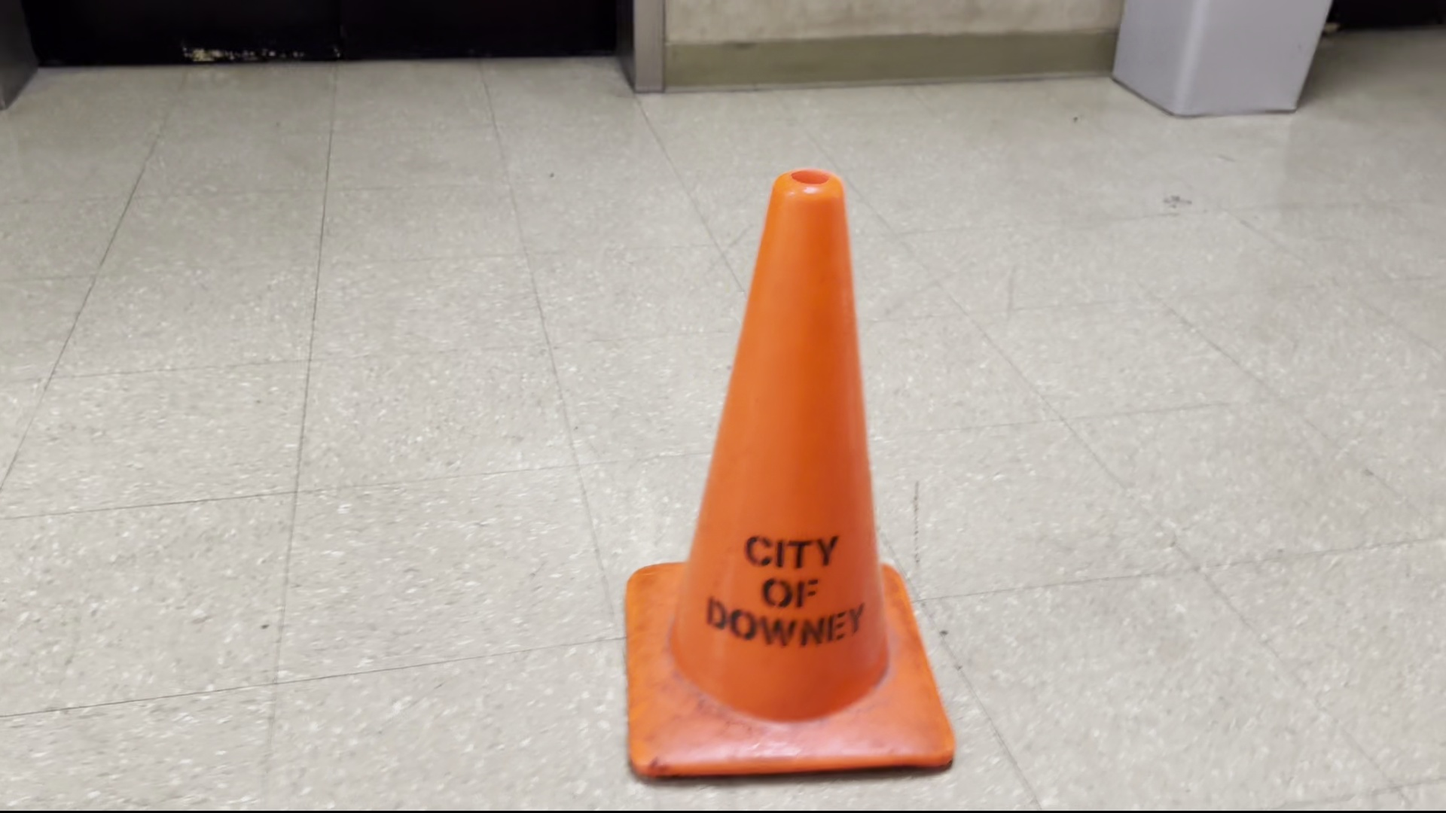traffic_cone: (624, 167, 956, 780)
